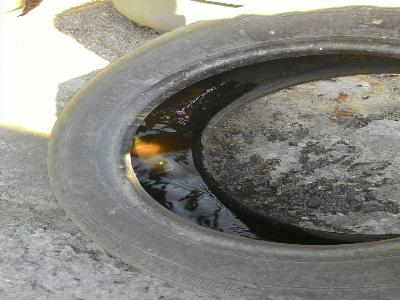tire: (45, 8, 400, 298)
